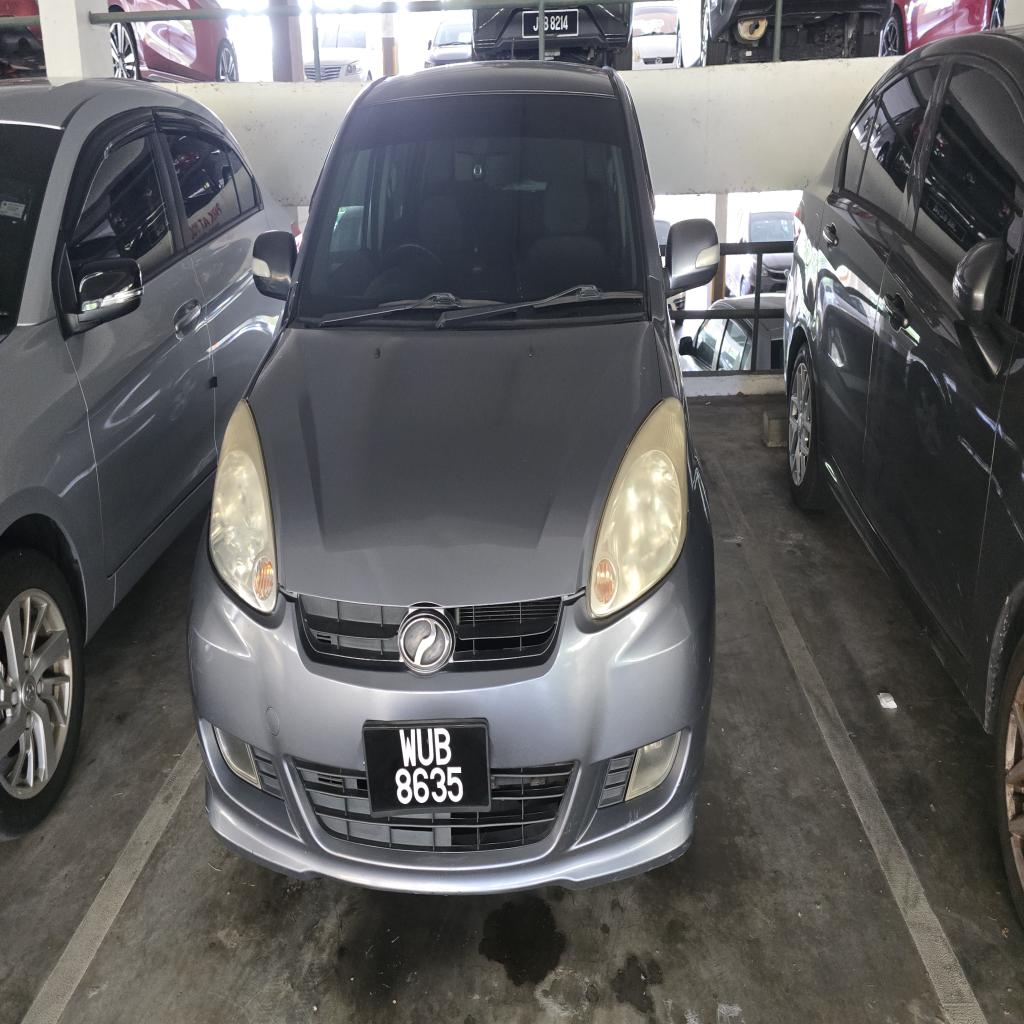car: (189, 62, 718, 892)
car plate: (363, 720, 490, 815)
